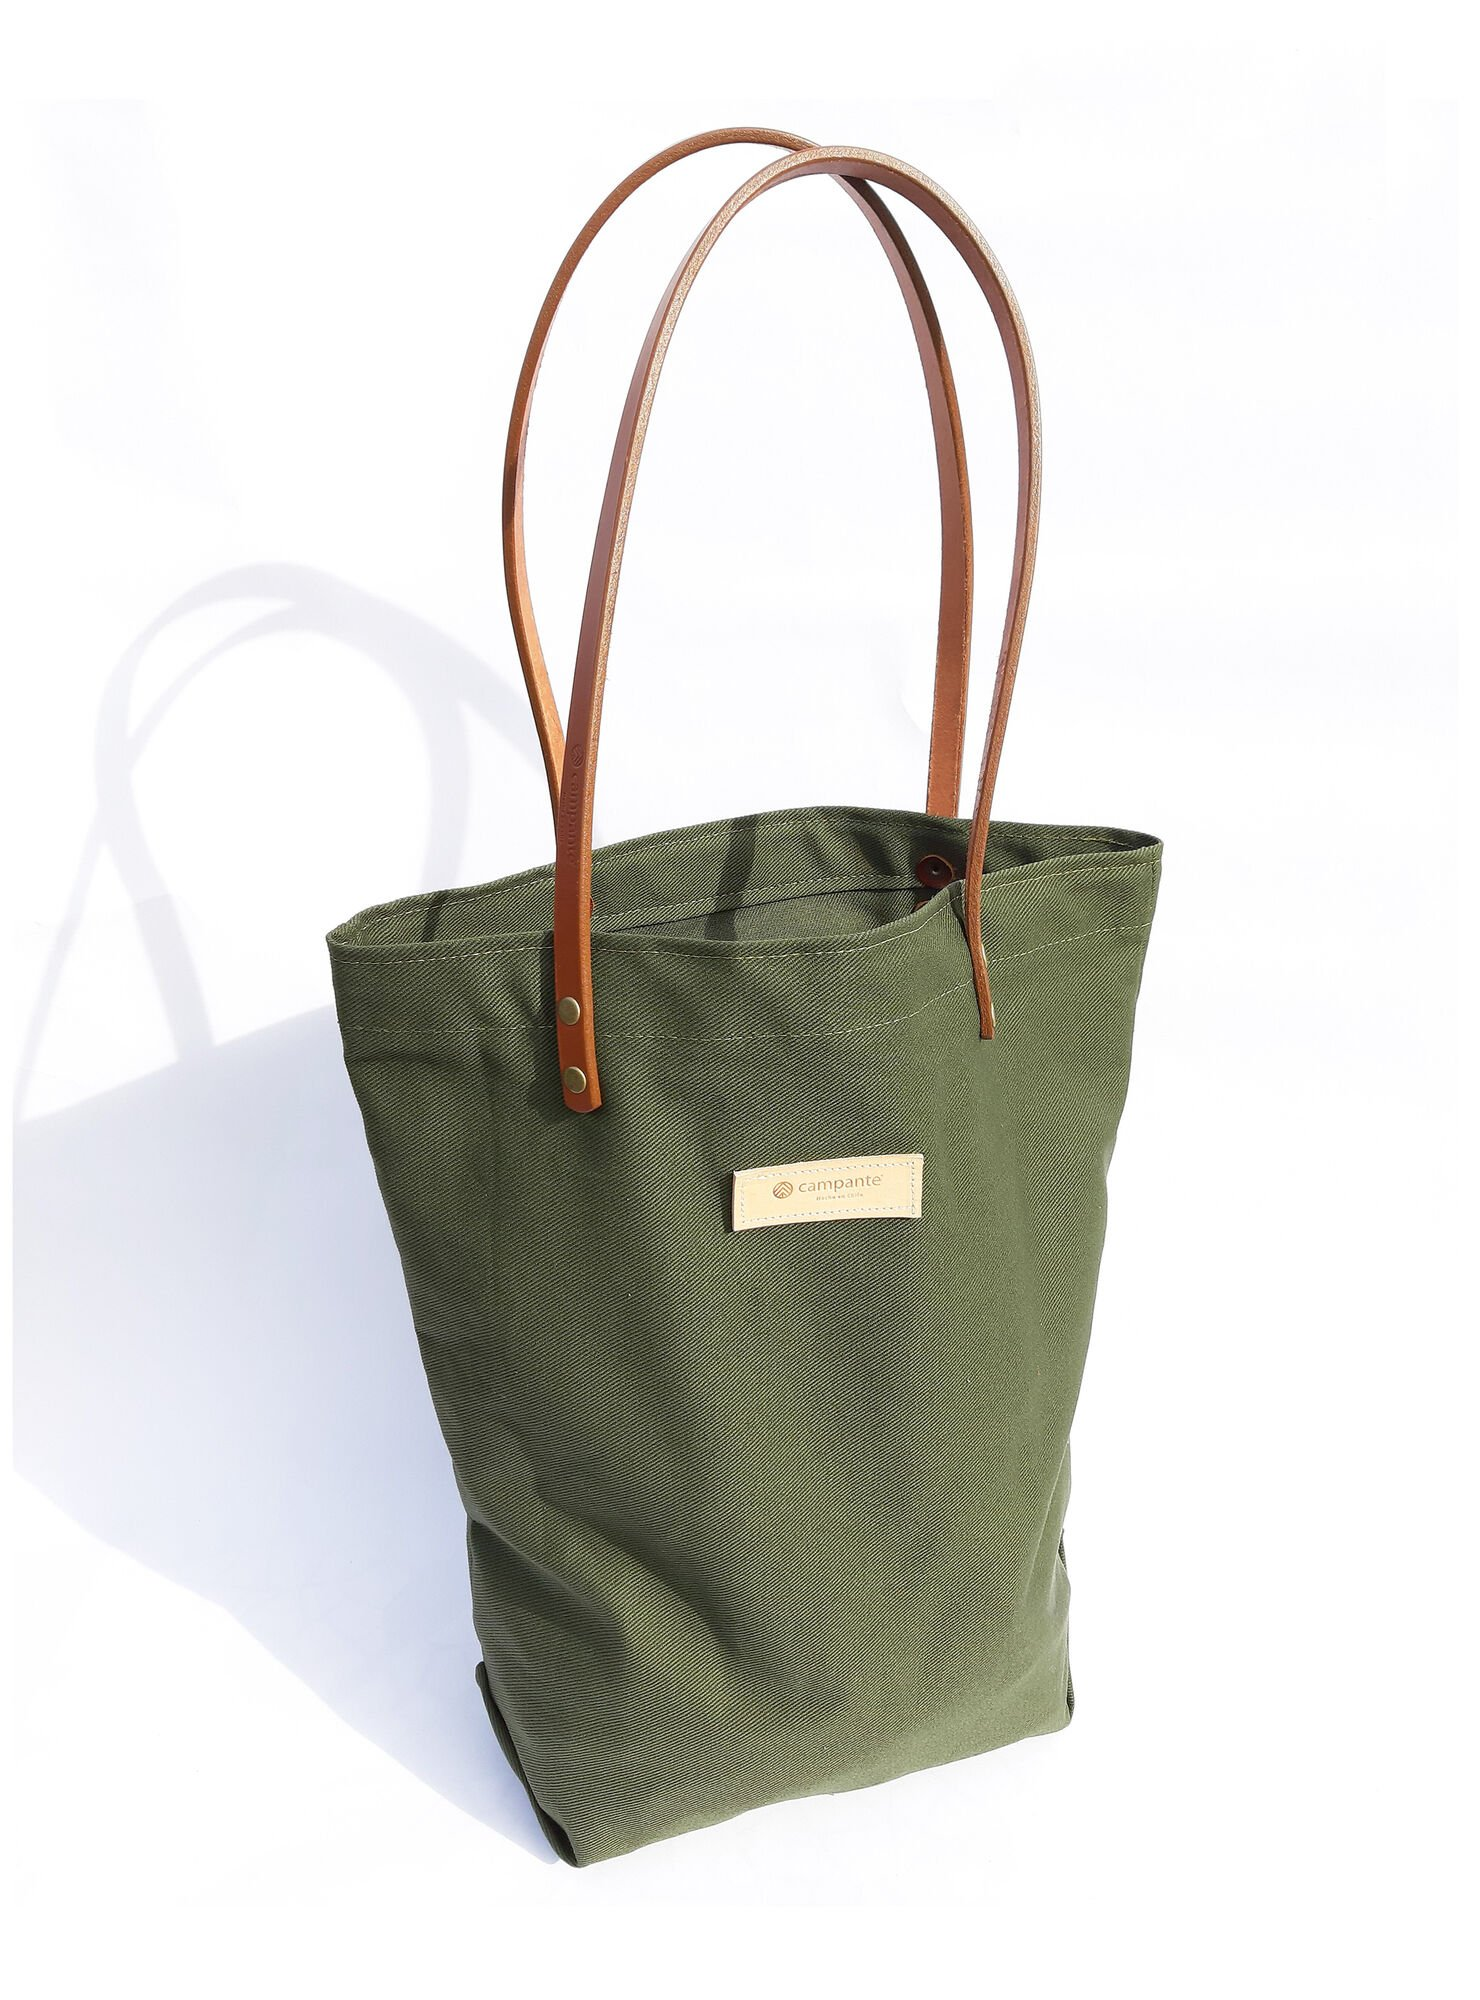cartera: (132, 61, 1398, 1901)
lona: (597, 1287, 983, 1594)
